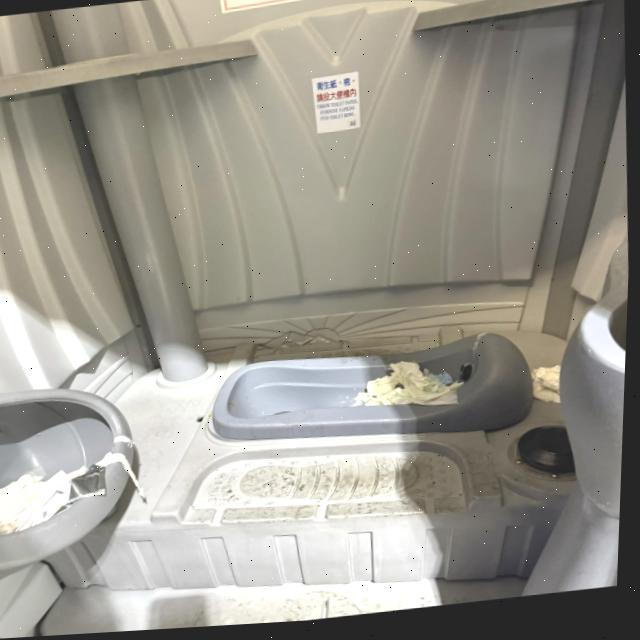dirty_area: (198, 418, 523, 569), (195, 286, 463, 377)
garbage: (0, 436, 201, 565), (333, 339, 486, 438), (519, 352, 579, 412)
